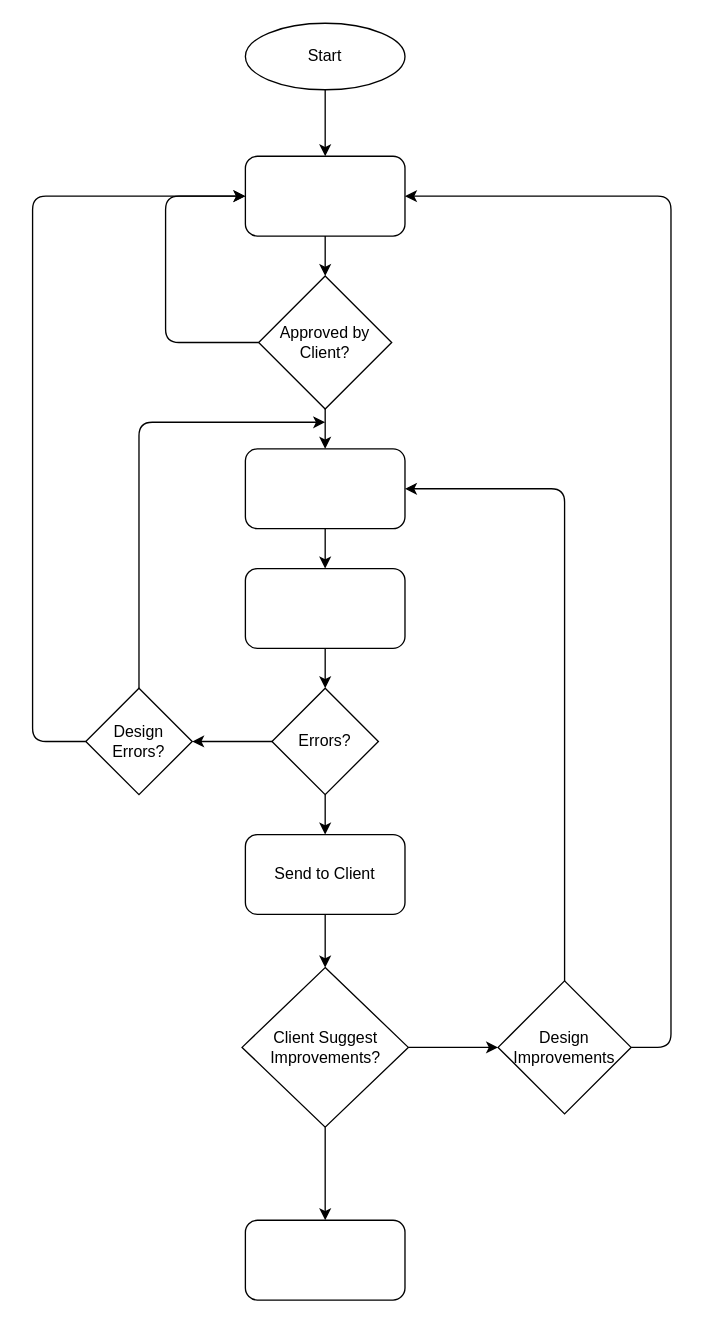
Image size: 705x1323. Some labels were removed from this diagram. The centre of each missing label's shape, as x and y in pixels:
"Code Prototype" belongs at point 324,488.
"Design Interface" belongs at point 324,195.
"End" belongs at point 324,1259.
"Testing" belongs at point 324,607.
